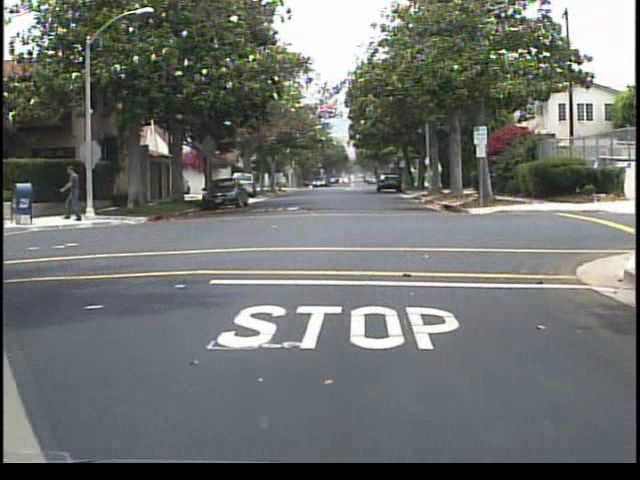person: (61, 161, 92, 226)
